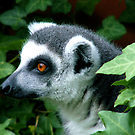cat: (0, 21, 125, 134)
